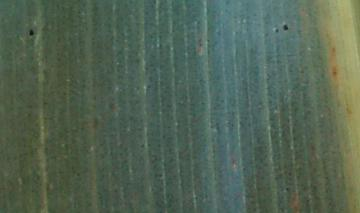tarspot: (25, 26, 36, 38), (280, 23, 290, 31), (274, 27, 279, 35)
